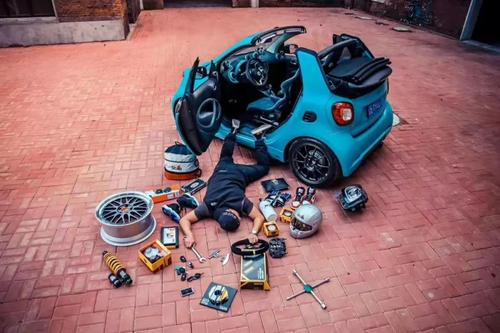fall: (173, 107, 280, 257)
